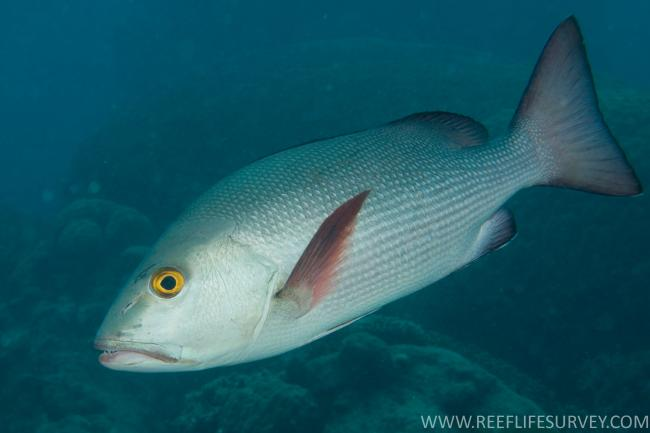fish: (93, 13, 645, 374)
